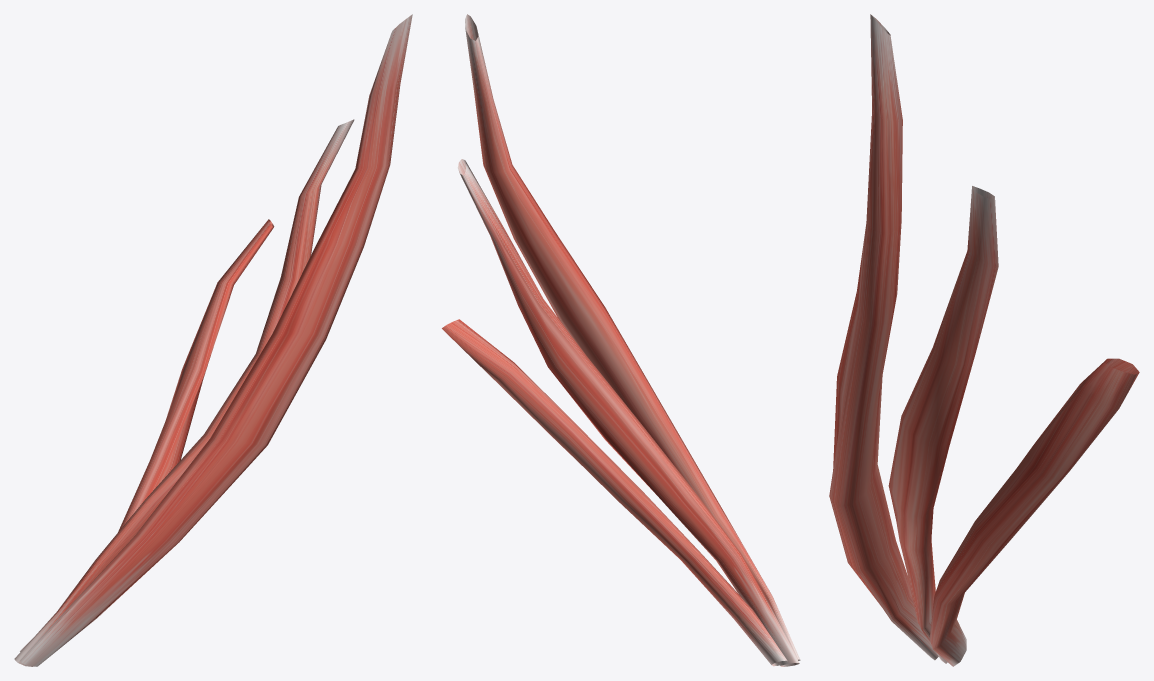
The model's file is Scalenus_Anterior_Muscle_Right.obj.
The picture shows the model from 3 angles, left to right: view 1: azimuth 30°, elevation 25°; view 2: azimuth 150°, elevation 25°; view 3: azimuth 270°, elevation 25°; orthographic projection. The views are drawn at different scales.
Parts seen in each view (by area): view 1: Scalenus_Anterior_Muscle_Right_03:Scalenus_Anterior_Muscle_Right, Scalenus_Anterior_Muscle_Right_02:Scalenus_Anterior_Muscle_Right, Scalenus_Anterior_Muscle_Right_01:Scalenus_Anterior_Muscle_Right; view 2: Scalenus_Anterior_Muscle_Right_03:Scalenus_Anterior_Muscle_Right, Scalenus_Anterior_Muscle_Right_02:Scalenus_Anterior_Muscle_Right, Scalenus_Anterior_Muscle_Right_01:Scalenus_Anterior_Muscle_Right; view 3: Scalenus_Anterior_Muscle_Right_03:Scalenus_Anterior_Muscle_Right, Scalenus_Anterior_Muscle_Right_02:Scalenus_Anterior_Muscle_Right, Scalenus_Anterior_Muscle_Right_01:Scalenus_Anterior_Muscle_Right.
Part boxes in pixels (x1=…): Scalenus_Anterior_Muscle_Right_03:Scalenus_Anterior_Muscle_Right: x1=20, y1=14, x2=412, y2=666; Scalenus_Anterior_Muscle_Right_02:Scalenus_Anterior_Muscle_Right: x1=14, y1=119, x2=354, y2=666; Scalenus_Anterior_Muscle_Right_01:Scalenus_Anterior_Muscle_Right: x1=20, y1=219, x2=274, y2=651; Scalenus_Anterior_Muscle_Right_03:Scalenus_Anterior_Muscle_Right: x1=465, y1=14, x2=800, y2=660; Scalenus_Anterior_Muscle_Right_02:Scalenus_Anterior_Muscle_Right: x1=457, y1=159, x2=799, y2=666; Scalenus_Anterior_Muscle_Right_01:Scalenus_Anterior_Muscle_Right: x1=442, y1=319, x2=787, y2=666; Scalenus_Anterior_Muscle_Right_03:Scalenus_Anterior_Muscle_Right: x1=829, y1=14, x2=938, y2=660; Scalenus_Anterior_Muscle_Right_02:Scalenus_Anterior_Muscle_Right: x1=888, y1=186, x2=998, y2=663; Scalenus_Anterior_Muscle_Right_01:Scalenus_Anterior_Muscle_Right: x1=929, y1=358, x2=1139, y2=666.
Bounding box in the file's own units: 0.6299 × 0.9364 × 0.2854.
